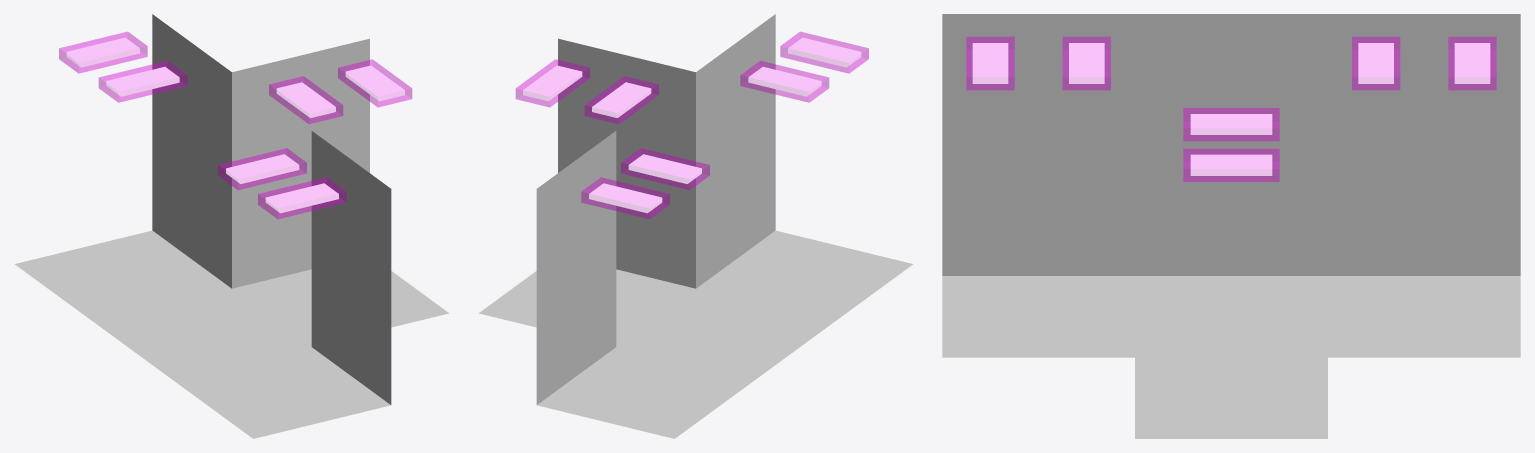
The model's file is maze_t.glb.
3 renders of one model, left to right at view 1: azimuth 30°, elevation 25°; view 2: azimuth 150°, elevation 25°; view 3: azimuth 270°, elevation 25°, orthographic. The views are drawn at different scales.
Visible parts, largest first — view 1: Plane.006, Plane.003, Plane.012, Plane.007, Plane.001, Plane.004, Plane.013, light.001, light.003, light.002; view 2: Plane.002, Plane.012, Plane.003, Plane.001, Plane.004, Plane.007, Plane.013, light.001, light.003, light.002; view 3: Plane.005, Plane.008, Plane.010, Plane.001, Plane.004, Plane.007, Plane.013, light.002, light.001, light.003.
Boxes of the visible parts, bbox=[...] form: Plane.006: bbox=[232, 38, 369, 288]; Plane.003: bbox=[311, 131, 391, 404]; Plane.012: bbox=[152, 14, 231, 288]; Plane.007: bbox=[174, 347, 390, 438]; Plane.001: bbox=[14, 230, 231, 322]; Plane.004: bbox=[94, 289, 310, 380]; Plane.013: bbox=[232, 269, 449, 346]; light.001: bbox=[218, 148, 346, 218]; light.003: bbox=[59, 32, 187, 102]; light.002: bbox=[269, 59, 411, 123]; Plane.002: bbox=[558, 38, 695, 288]; Plane.012: bbox=[536, 131, 616, 404]; Plane.003: bbox=[696, 14, 775, 288]; Plane.001: bbox=[537, 347, 753, 438]; Plane.004: bbox=[617, 289, 833, 380]; Plane.007: bbox=[696, 230, 913, 322]; Plane.013: bbox=[478, 269, 695, 346]; light.001: bbox=[740, 32, 868, 102]; light.003: bbox=[581, 148, 709, 218]; light.002: bbox=[516, 59, 658, 123]; Plane.005: bbox=[942, 14, 1134, 275]; Plane.008: bbox=[1328, 14, 1520, 275]; Plane.010: bbox=[1135, 14, 1327, 275]; Plane.001: bbox=[1328, 276, 1520, 357]; Plane.004: bbox=[1135, 276, 1327, 357]; Plane.007: bbox=[942, 276, 1134, 357]; Plane.013: bbox=[1135, 357, 1327, 438]; light.002: bbox=[1183, 108, 1279, 181]; light.001: bbox=[966, 37, 1110, 89]; light.003: bbox=[1352, 37, 1496, 89].
Size of the model in its own units: 8 by 6 by 12.
